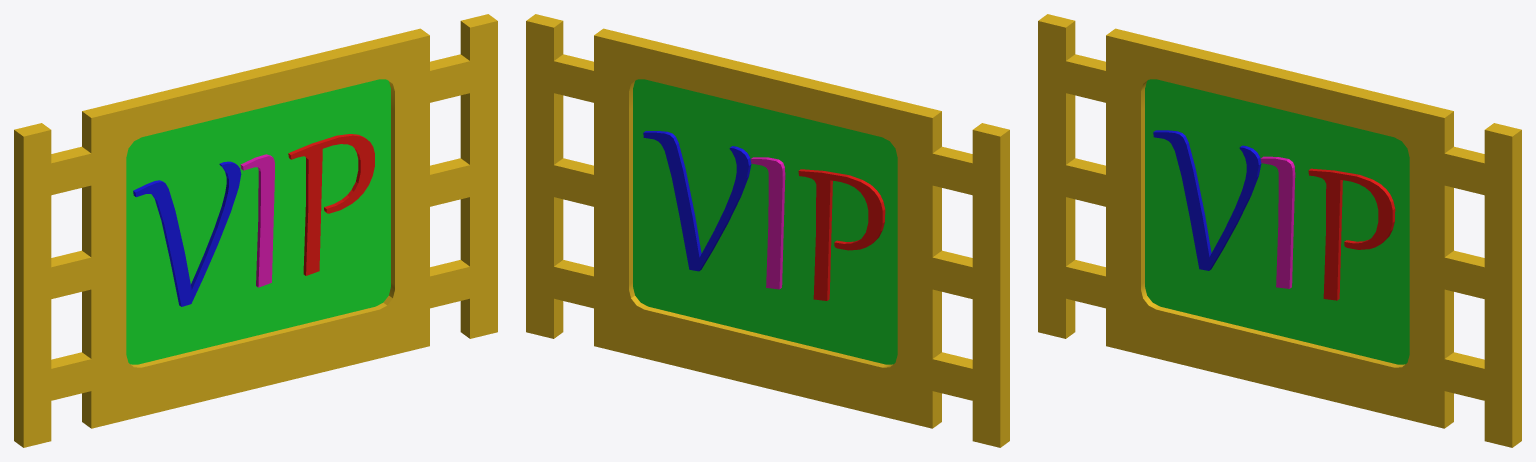
Rendered from vip_itachi.fbx.
3 renders of one model, left to right at view 1: azimuth 30°, elevation 25°; view 2: azimuth 150°, elevation 25°; view 3: azimuth 330°, elevation 25°, orthographic.
Visible parts, largest first — view 1: VIP, Vip P; view 2: VIP, Vip P; view 3: VIP, Vip P.
Boxes of the visible parts, left/top/right/bottom form: VIP: left=14, top=14, right=497, bottom=447; Vip P: left=126, top=79, right=390, bottom=364; VIP: left=526, top=14, right=1009, bottom=447; Vip P: left=633, top=79, right=897, bottom=364; VIP: left=1038, top=14, right=1521, bottom=447; Vip P: left=1145, top=79, right=1409, bottom=364.
Size of the model in its own units: 460 by 290 by 15.88.
